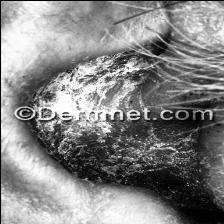Non-Cancerous Skin Condition: (18, 50, 197, 173)
